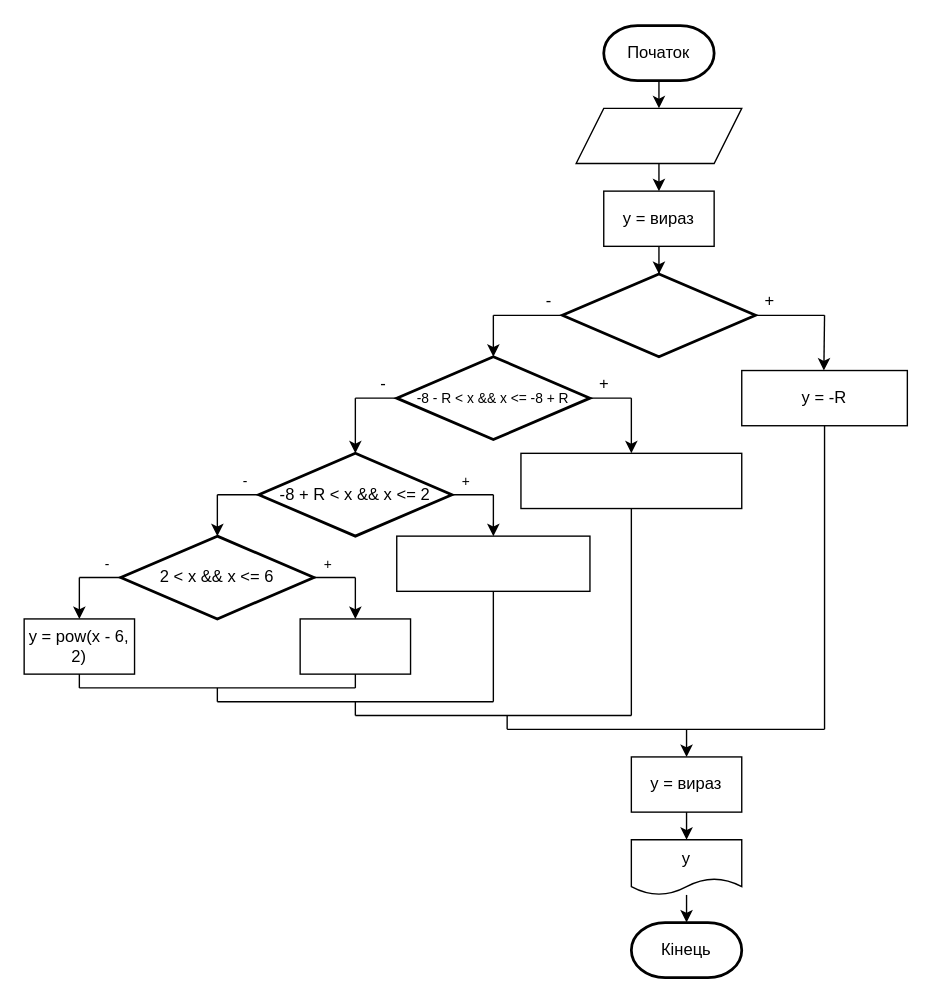
The diagram is 932 pixels wide and 1002 high, and some of its shapes have lost their labels. Each missing label, with the centre of its shape:
"x <= -8 - R" belongs at [658,314].
"y = (-R) + ((2 + R) / (10 - R)) * (x + 8 - R)" belongs at [492,563].
"y = 0" belongs at [355,646].
"y = sqrt(pow(R , 2) - pow(x, 2) - 16*x -64) - R" belongs at [631,480].
"ввід x, R" belongs at [658,135].
